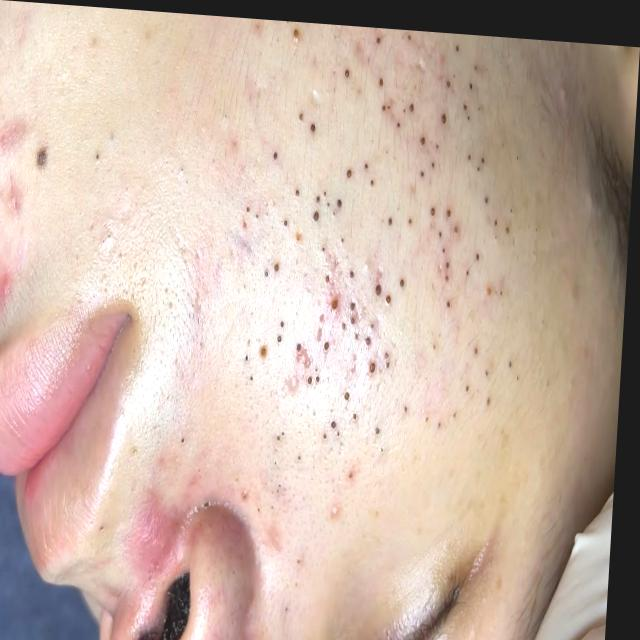dark spot: (34, 133, 52, 174), (372, 276, 387, 295), (399, 268, 412, 289), (343, 158, 358, 176), (445, 193, 458, 213), (370, 351, 383, 370), (337, 187, 349, 207), (387, 281, 398, 302), (354, 398, 365, 419), (341, 310, 352, 331), (439, 104, 451, 123), (325, 332, 338, 349), (315, 365, 328, 382), (376, 66, 386, 87), (277, 422, 288, 441), (443, 249, 455, 266), (445, 289, 456, 307), (297, 100, 307, 119), (467, 369, 476, 390), (279, 313, 292, 327), (296, 334, 308, 349), (475, 333, 484, 353), (420, 126, 429, 146), (310, 112, 319, 131), (309, 366, 318, 385), (348, 257, 358, 274), (429, 196, 440, 211), (347, 384, 358, 399), (325, 264, 336, 279), (294, 178, 305, 193), (314, 201, 323, 219), (276, 255, 285, 273), (377, 416, 387, 432), (343, 57, 353, 73), (283, 211, 293, 227), (277, 329, 288, 343), (488, 386, 499, 400), (332, 411, 343, 424), (368, 327, 376, 344), (511, 346, 519, 363), (476, 240, 485, 255), (408, 206, 417, 221), (352, 305, 360, 321), (274, 140, 282, 156), (369, 171, 377, 187), (409, 95, 418, 109), (419, 161, 429, 173), (467, 140, 475, 154), (388, 210, 396, 223), (352, 294, 360, 307)
